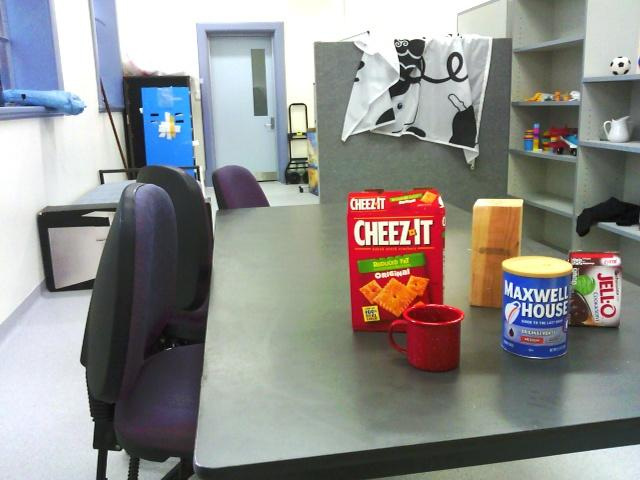002_master_chef_can: (499, 255, 574, 362)
003_cracker_box: (344, 186, 448, 336)
008_pudding_box: (567, 249, 625, 330)
025_mug: (386, 304, 466, 373)
036_wood_block: (468, 196, 528, 310)
